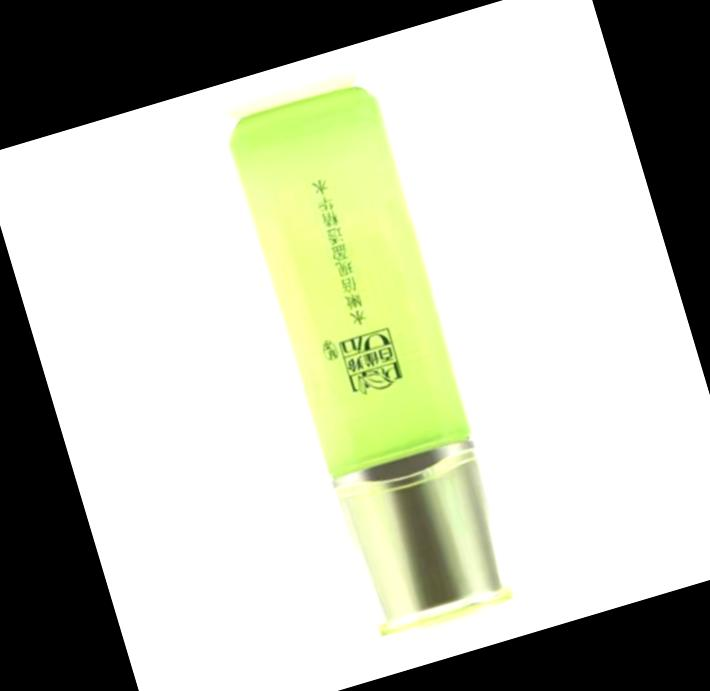cosmetic: (222, 93, 521, 645)
